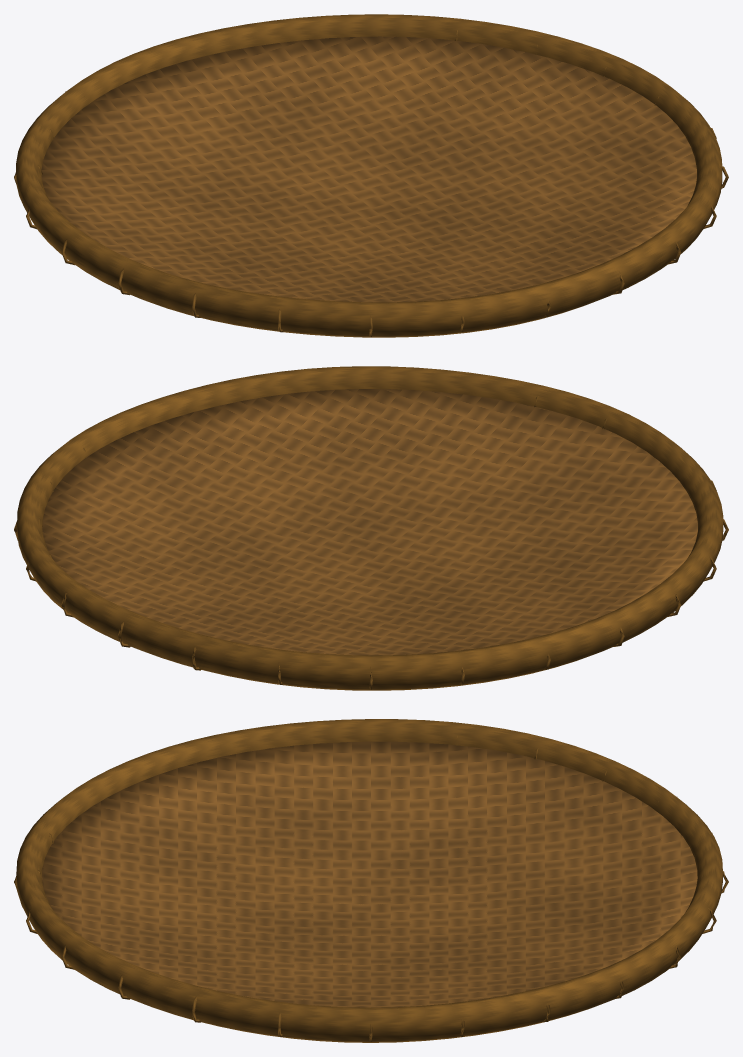
The model's file is SM_BambooTray.fbx.
3 views of the same model, one above another, from view 1: azimuth 30°, elevation 25°; view 2: azimuth 150°, elevation 25°; view 3: azimuth 270°, elevation 25° (orthographic).
Visible parts, largest first — view 1: Tray_Weave, Tray_Rim; view 2: Tray_Weave, Tray_Rim; view 3: Tray_Weave, Tray_Rim.
Part boxes in pixels (<box>): Tray_Weave: <box>41,36,696,302</box>; Tray_Rim: <box>14,14,728,337</box>; Tray_Weave: <box>42,389,697,655</box>; Tray_Rim: <box>14,366,728,690</box>; Tray_Weave: <box>42,741,697,1007</box>; Tray_Rim: <box>14,719,728,1042</box>.
Bounding box in the file's own units: 0.5144 × 0.0418 × 0.5141.
Materials: 2 (2 with a texture image).
